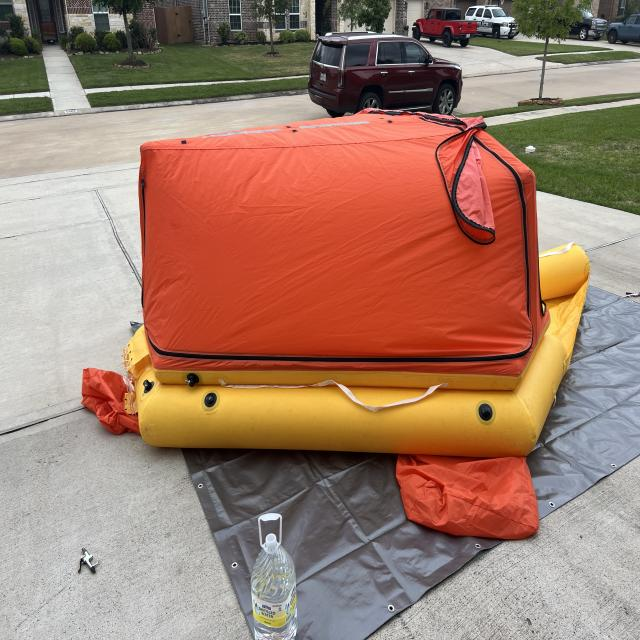Multi-person_life_raft: (80, 106, 590, 542)
